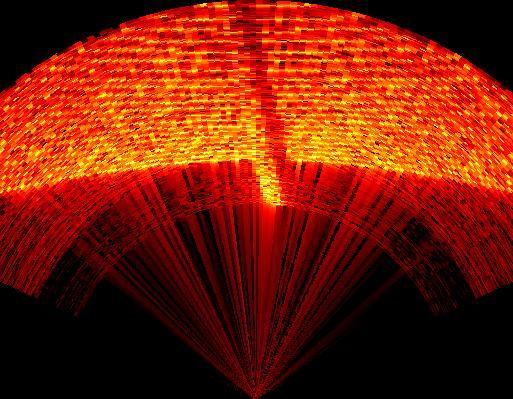pipe: (208, 2, 297, 210)
